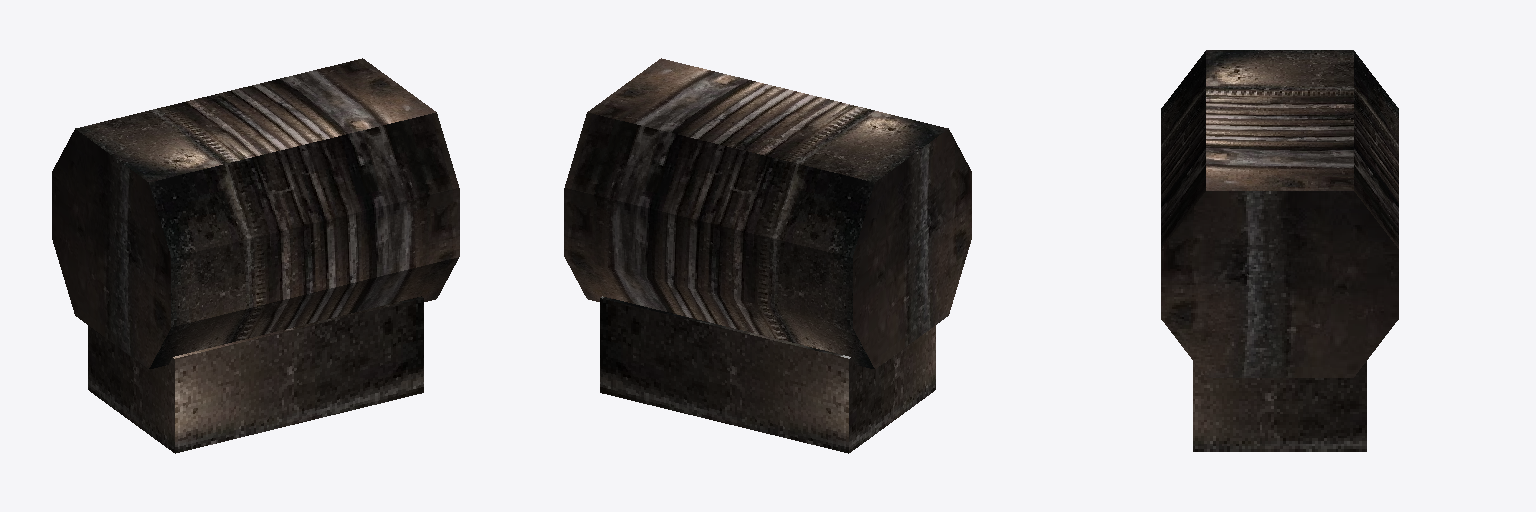
3 renders of one model, left to right at view 1: azimuth 30°, elevation 25°; view 2: azimuth 150°, elevation 25°; view 3: azimuth 270°, elevation 25°, orthographic.
Parts seen in each view (by area): view 1: Cube.008_Cube.009; view 2: Cube.008_Cube.009; view 3: Cube.008_Cube.009.
Part boxes in pixels (bbox=[...]): Cube.008_Cube.009: bbox=[52, 58, 459, 453]; Cube.008_Cube.009: bbox=[564, 58, 971, 453]; Cube.008_Cube.009: bbox=[1161, 50, 1398, 451].
Size of the model in its own units: 3.31 by 2.98 by 2.37.
Materials: 1 (1 with a texture image).